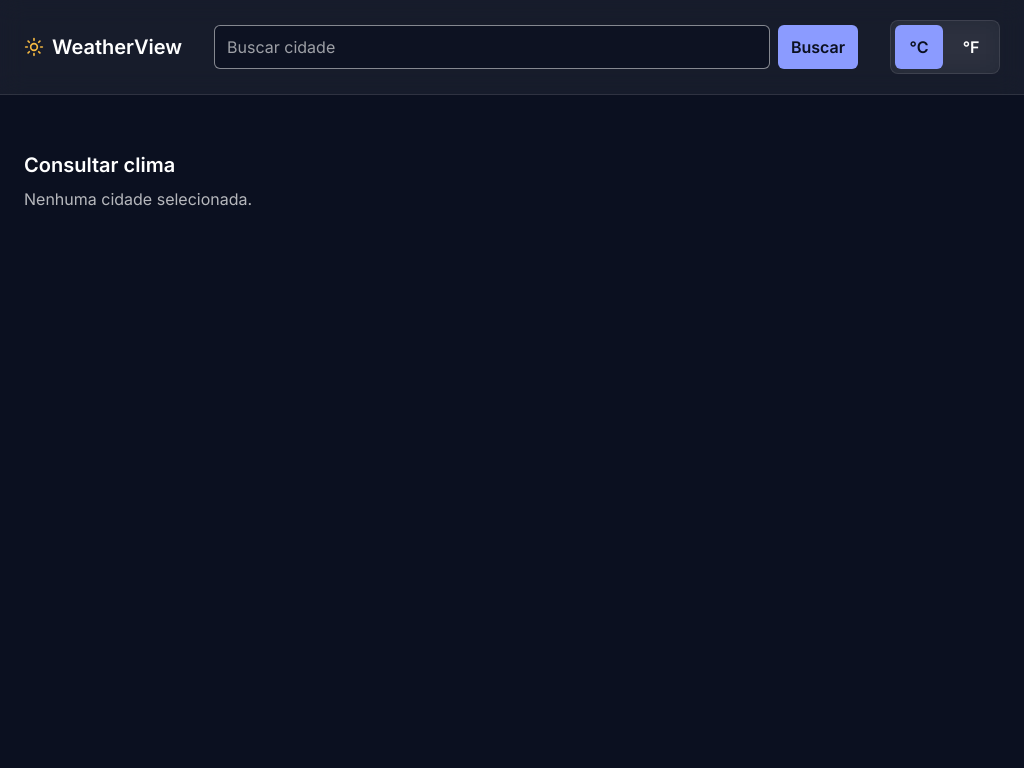
Test: App › mostra loading e preserva a unidade escolhida durante a consulta
Type "Curitiba" into the search field.
click(492, 47); type("Curitiba")  # box [214,25,770,69]
Then press Enter
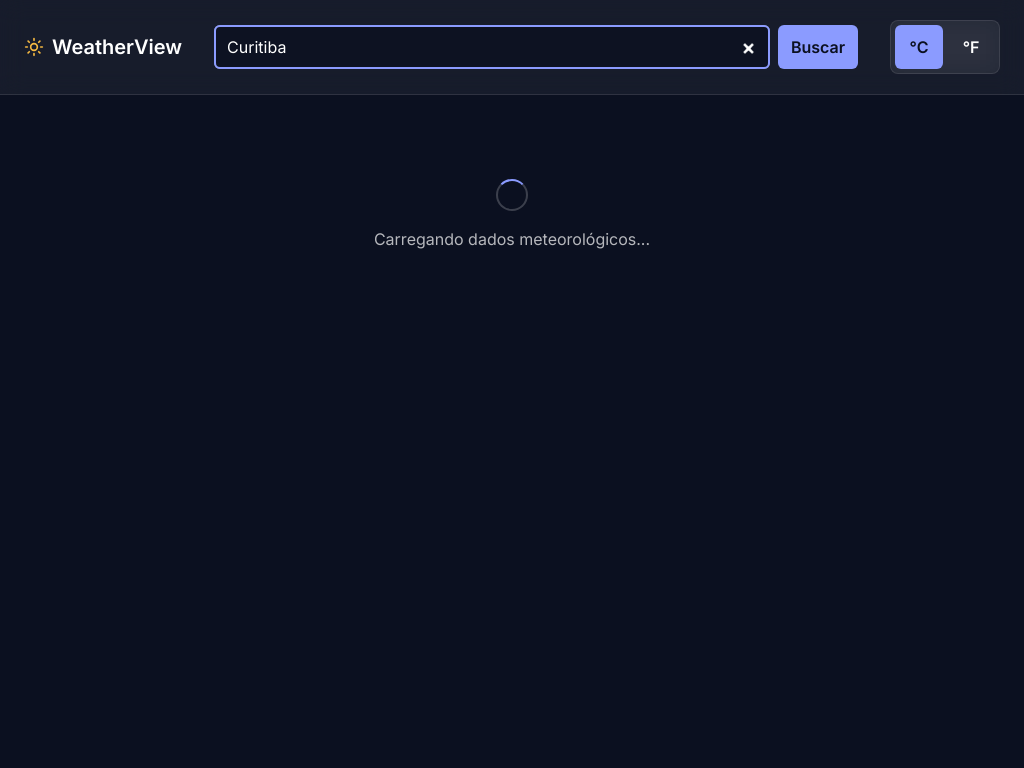
Check: the message reads "Carregando dados meteorológicos...", box [374,229,650,249]
Click the button named "Fahrenheit".
click(971, 47)  # box [947,25,995,69]
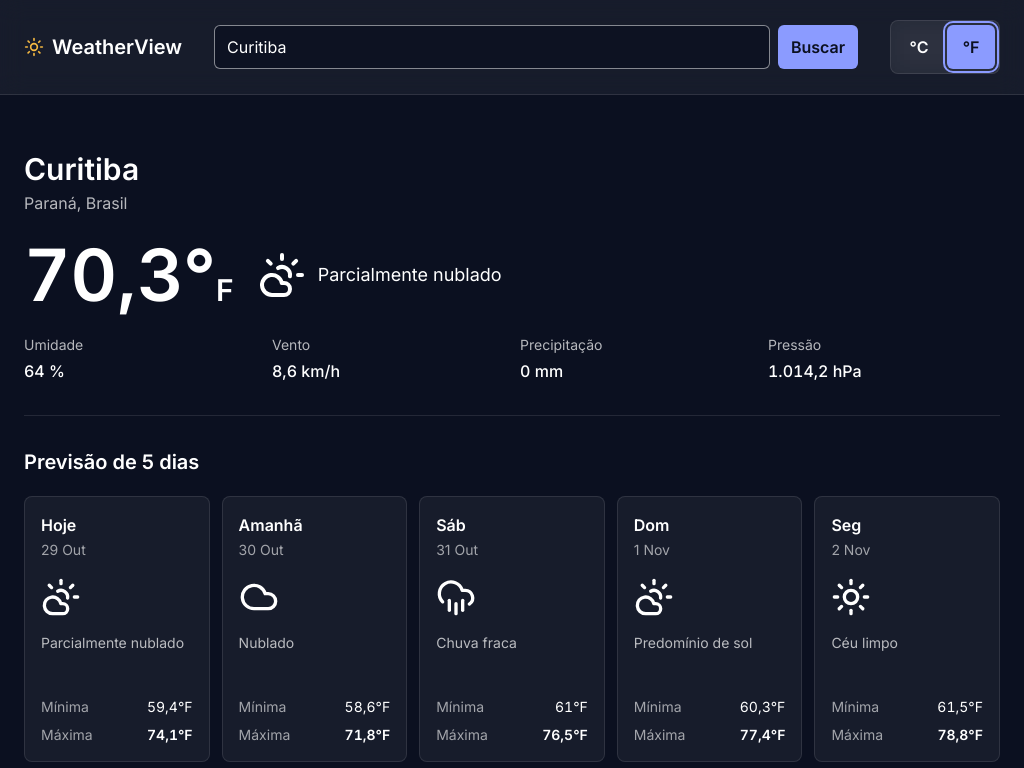
Check: the element named "Temperatura atual" reads "70,3°F", box [24,239,234,311]
